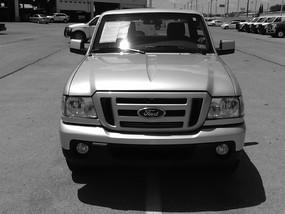car: (59, 10, 247, 181)
